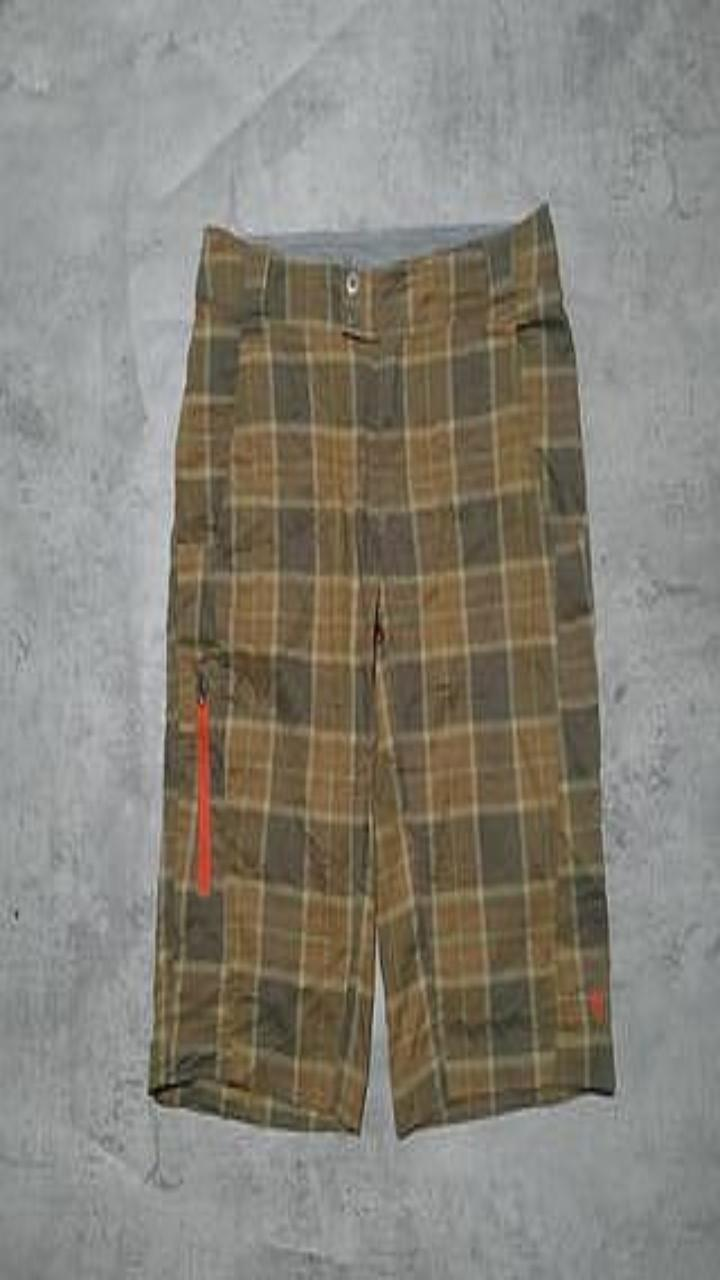Shorts: (149, 202, 615, 1136)
